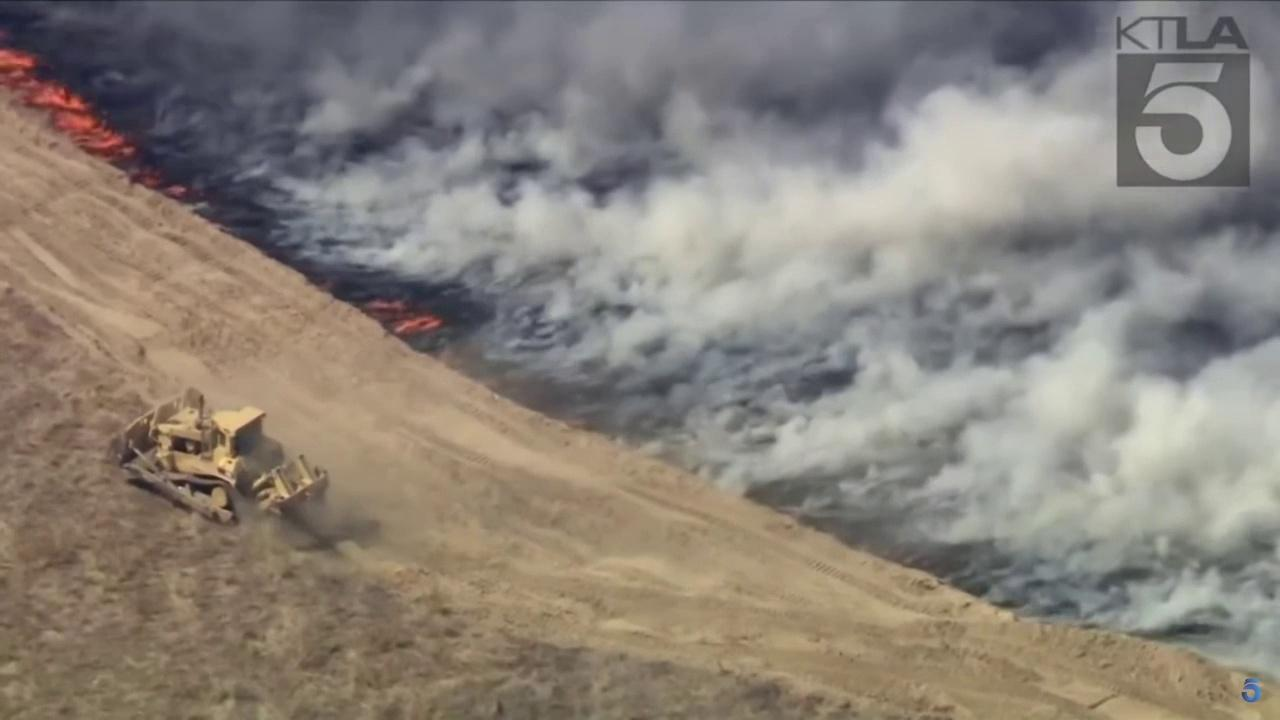fire: (0, 45, 137, 164), (360, 297, 441, 335), (166, 184, 188, 198)
smoke: (0, 0, 1280, 685)
